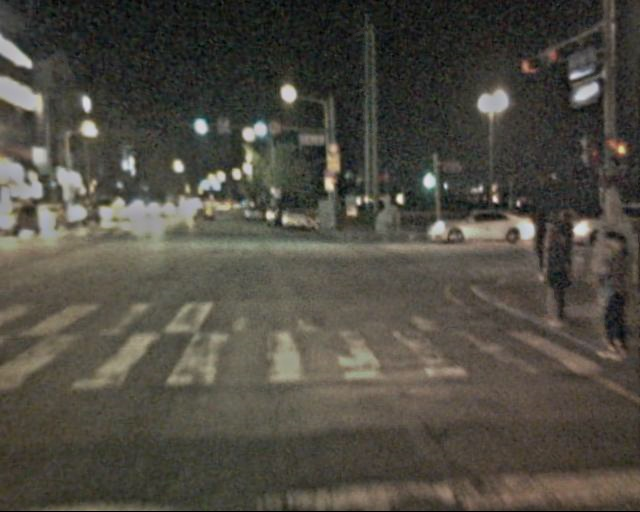person: (576, 235, 640, 361), (525, 220, 580, 328), (526, 209, 561, 282)
